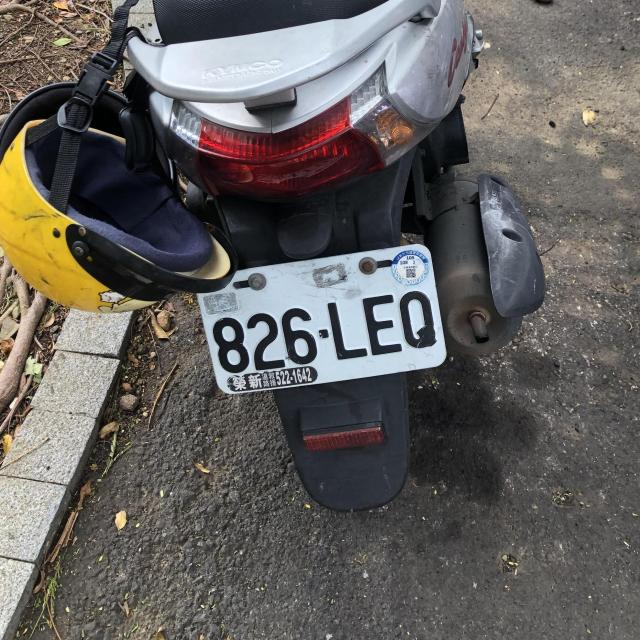W: (191, 242, 450, 395)
